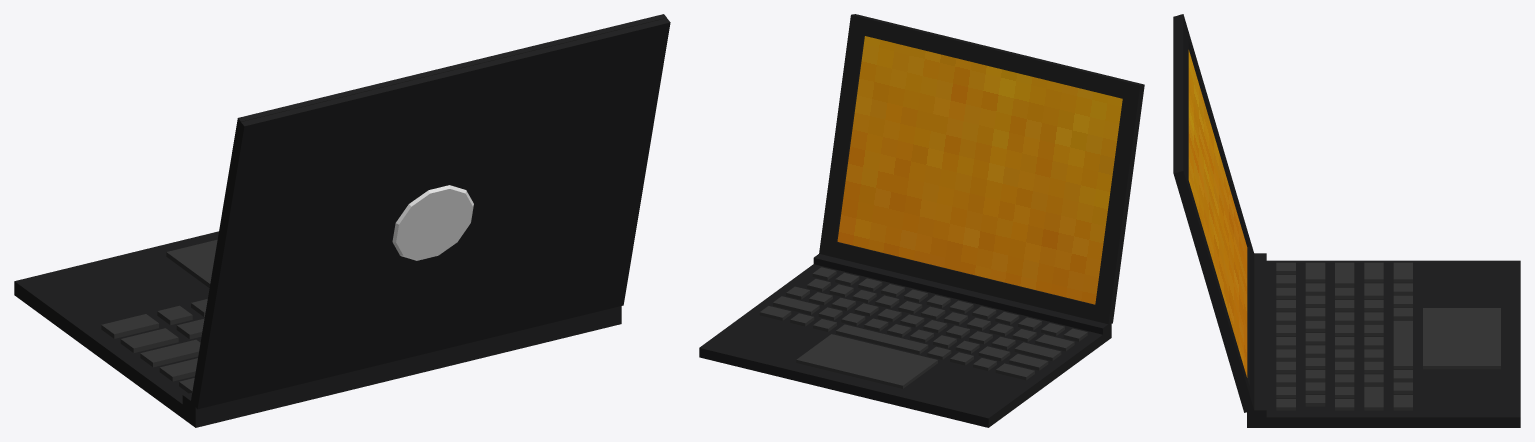
Rendered from laptop.gltf.
3 renders of one model, left to right at view 1: azimuth 30°, elevation 25°; view 2: azimuth 150°, elevation 25°; view 3: azimuth 270°, elevation 25°, orthographic. The views are drawn at different scales.
Parts seen in each view (by area): view 1: screen, group4, cube (×4), circle, screen border (×2), touchpad; view 2: screen, group4, screen border (×4), cube (×4), touchpad; view 3: group4, screen, cube (×8), screen border (×4), touchpad.
Boxes of the visible parts, <box> form: screen: <box>192,18,670,409</box>; group4: <box>14,231,621,427</box>; cube (×4): <box>101,306,621,420</box>; circle: <box>392,185,473,260</box>; screen border (×2): <box>191,19,644,401</box>; touchpad: <box>166,239,217,287</box>; screen: <box>837,14,1144,323</box>; group4: <box>699,264,1111,427</box>; screen border (×4): <box>819,14,1141,324</box>; cube (×4): <box>773,253,1111,360</box>; touchpad: <box>796,334,937,388</box>; group4: <box>1247,260,1520,427</box>; screen: <box>1173,15,1251,412</box>; cube (×8): <box>1247,253,1412,422</box>; screen border (×4): <box>1178,14,1254,411</box>; touchpad: <box>1423,308,1500,369</box>.
Size of the model in its own units: 2.38 by 1.82 by 2.22.
2 materials, 2 textured.
